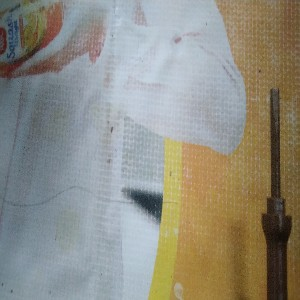obeng: (260, 87, 293, 300)
